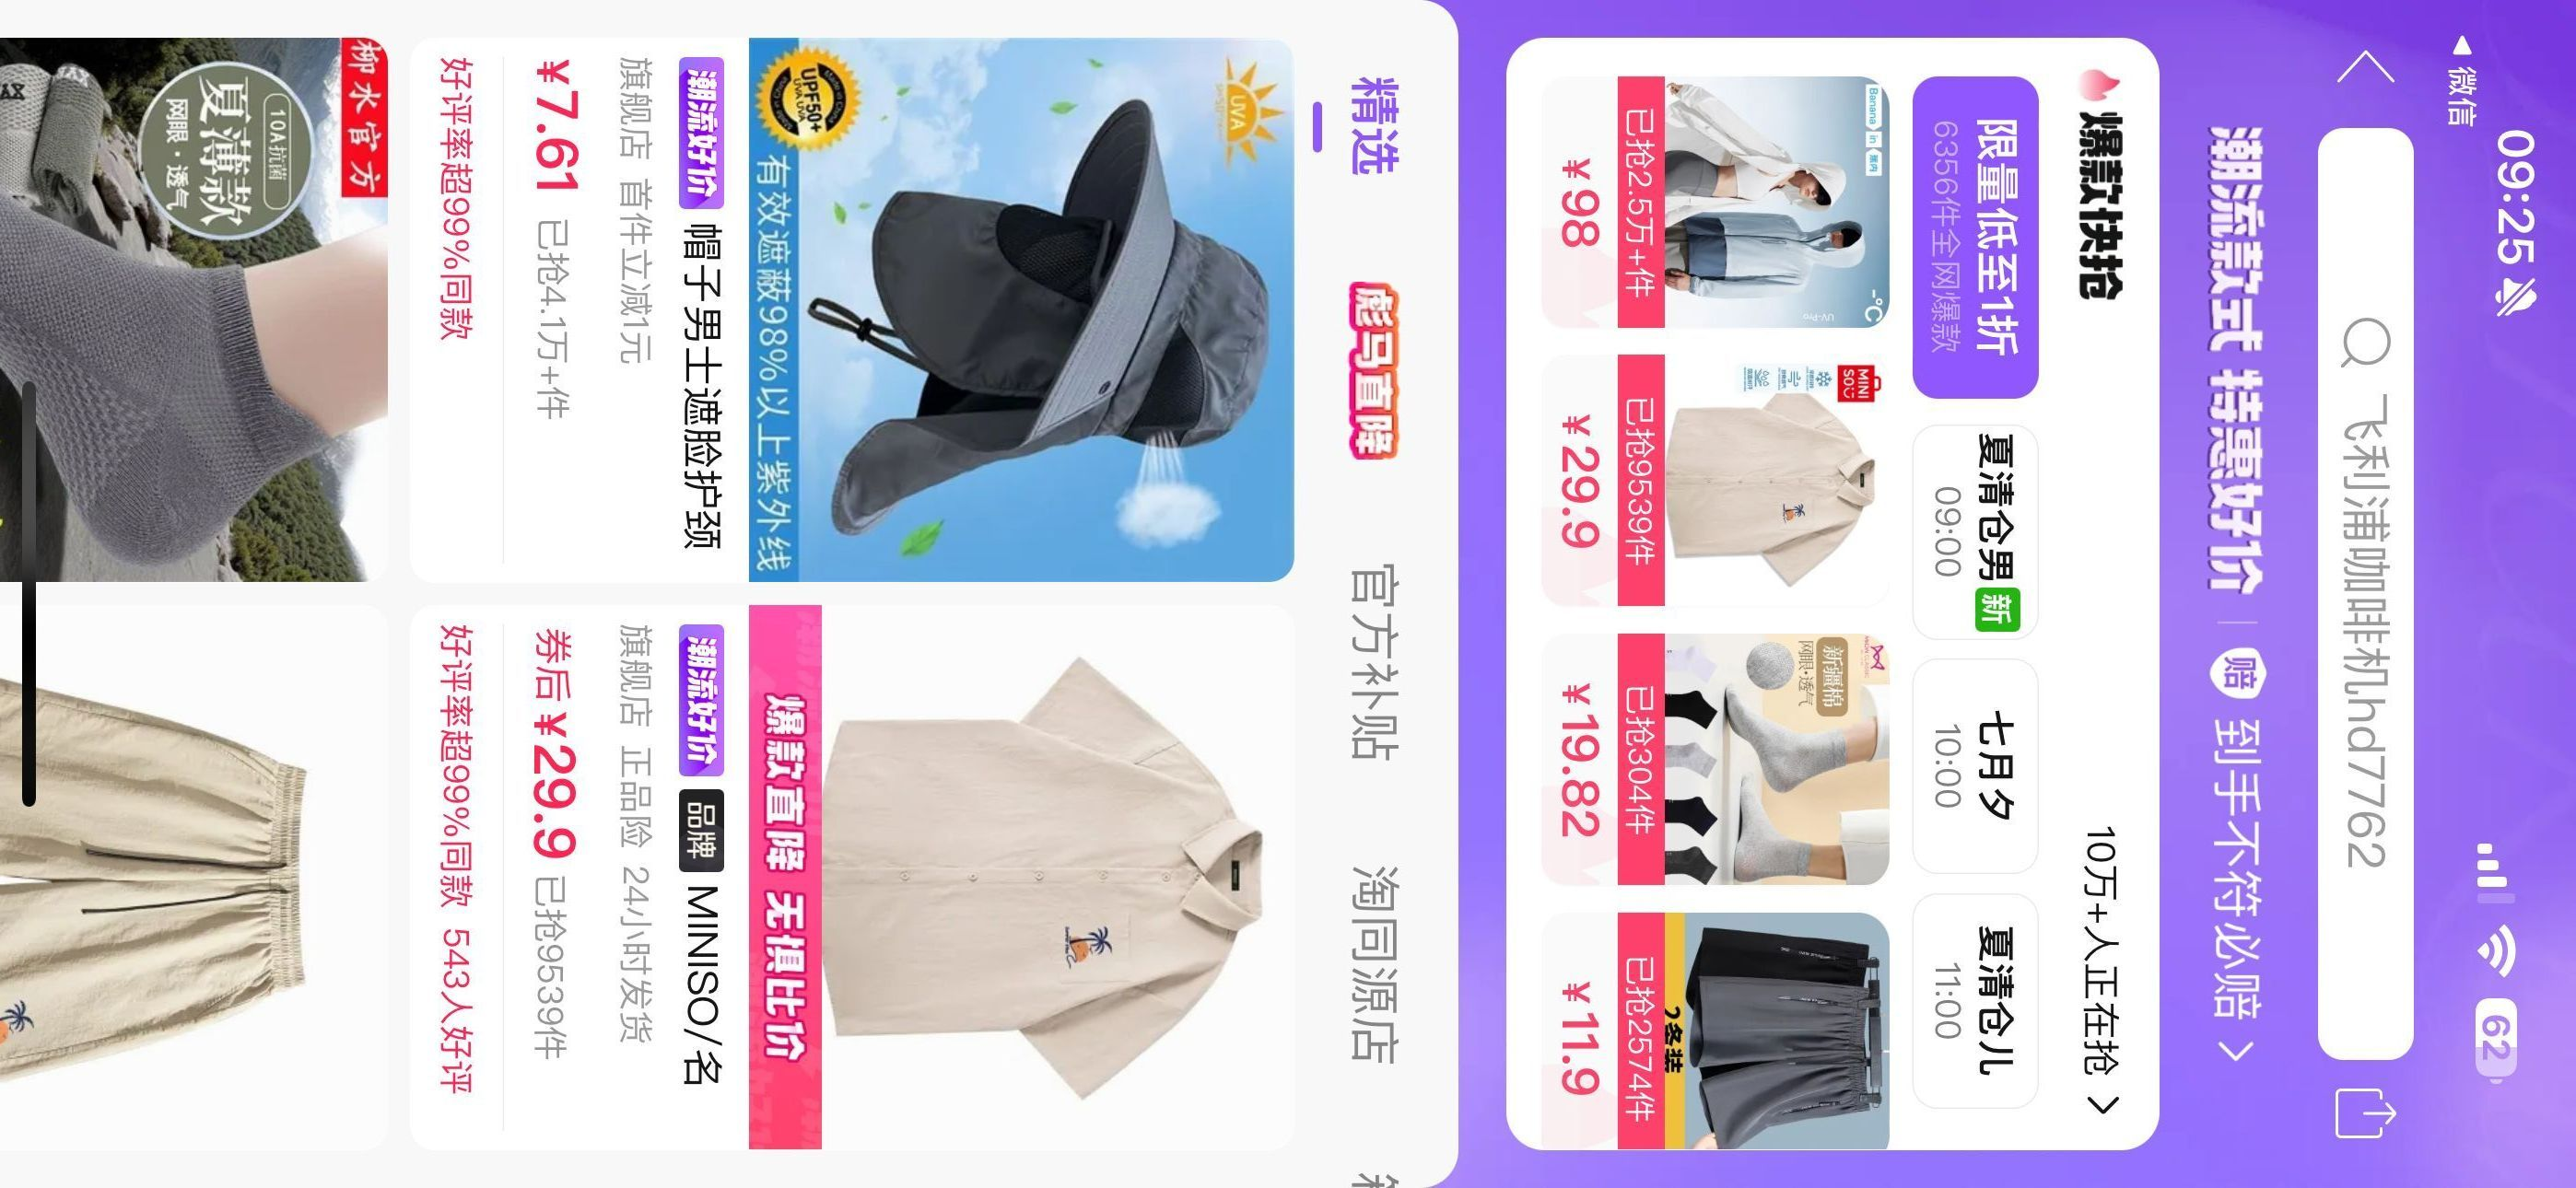item: (398, 598, 1319, 1185), (396, 20, 1311, 595)
op_bar: (2300, 7, 2440, 1188)
seckill: (1482, 7, 2188, 1176)
